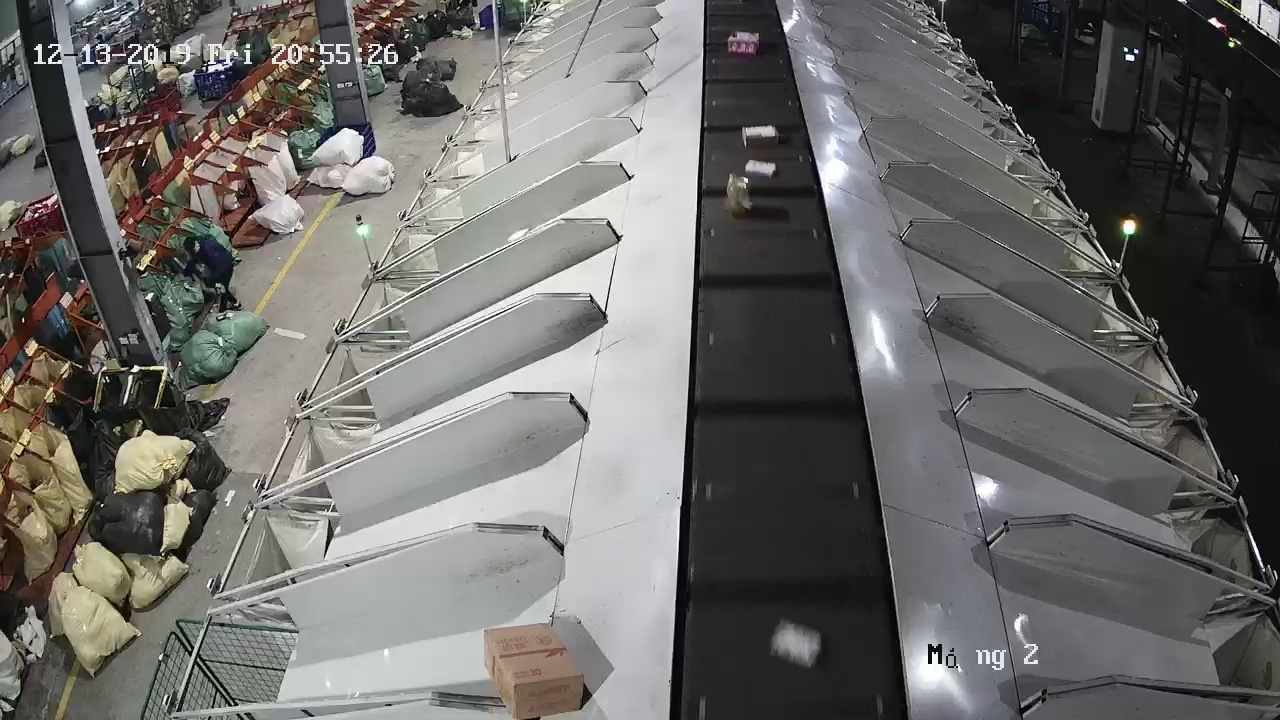parcel: (725, 172, 752, 216)
